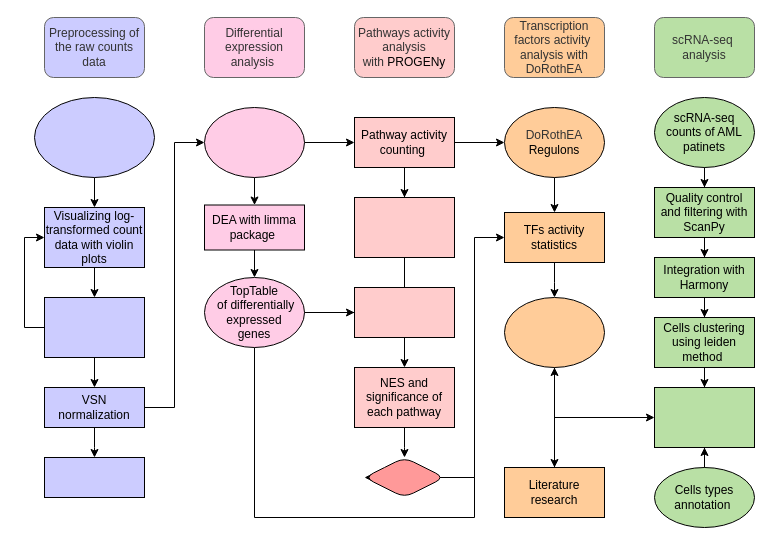
This 772x545 diagram has some shape labels left out. Each missing label, with the centre of its shape:
"checkpoint" belongs at [404,477].
"Normalized RNA-seq data" belongs at [254,142].
"PCA visualization" belongs at [94,477].
"raw RNA-seq counts of AML patients and HDs" belongs at [94,137].
"Running an enrichment analysis" belongs at [404,312].
"Threshold selection and low expressed genes removal" belongs at [94,327].
"Top-100 differentially active TFs" belongs at [554,332].
"Visualization pathway activity on heatmap" belongs at [404,227].
"Visualizing TFs expression levels in different cell types" belongs at [704,417].
